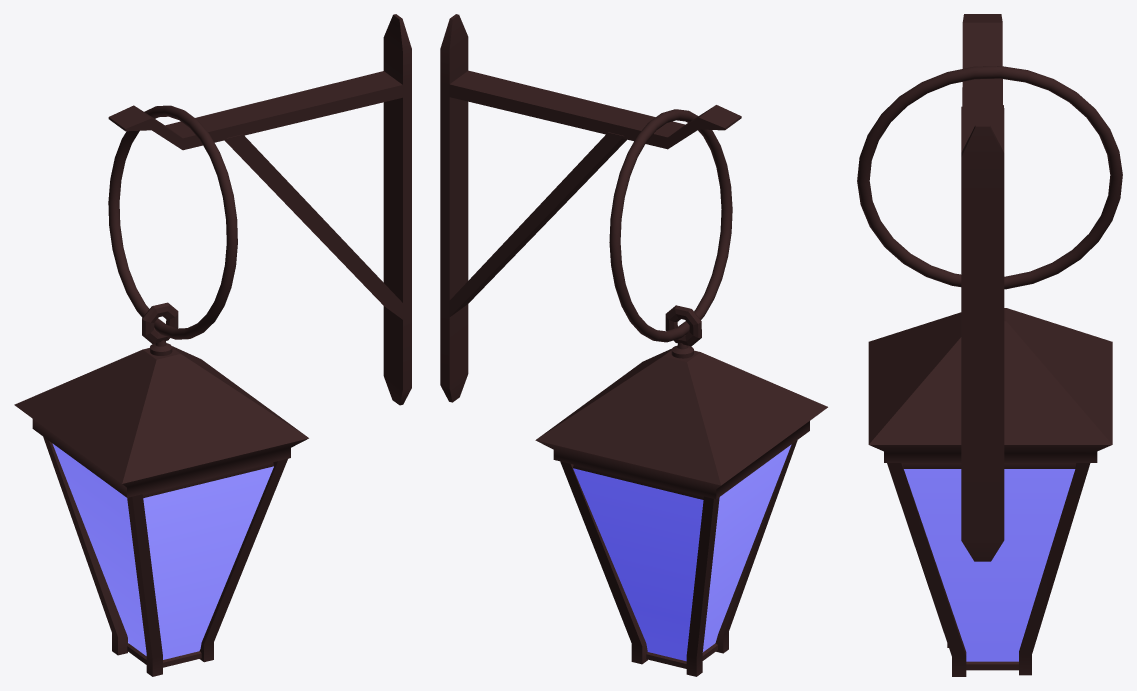
The model's file is lamp_v2.fbx.
3 renders of one model, left to right at view 1: azimuth 30°, elevation 25°; view 2: azimuth 150°, elevation 25°; view 3: azimuth 270°, elevation 25°, orthographic. The views are drawn at different scales.
Parts seen in each view (by area): view 1: pasted__pCube97; view 2: pasted__pCube97; view 3: pasted__pCube97.
Boxes of the visible parts, bbox=[...] form: pasted__pCube97: bbox=[14, 14, 411, 676]; pasted__pCube97: bbox=[440, 14, 827, 676]; pasted__pCube97: bbox=[857, 14, 1122, 676].
Bounding box in the file's own units: 1.53 × 2.58 × 0.9426.
